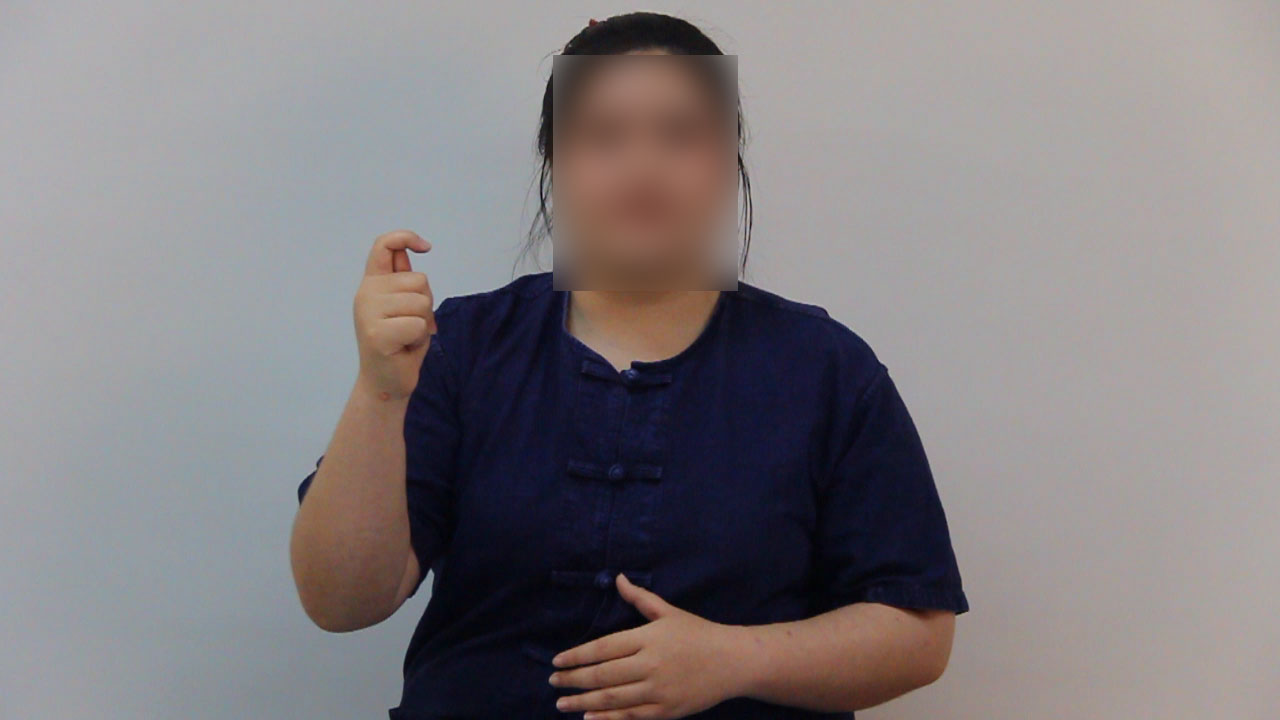or: (348, 211, 446, 411)
